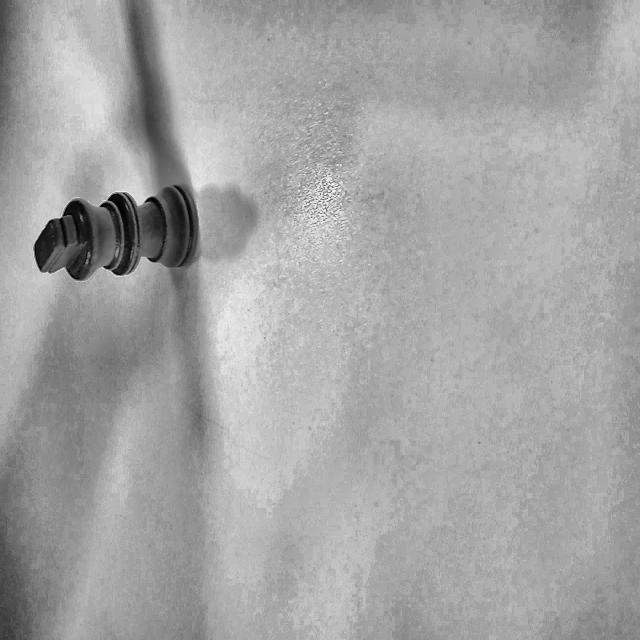black-king: (15, 170, 213, 292)
